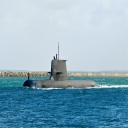submarine: (22, 57, 112, 89)
